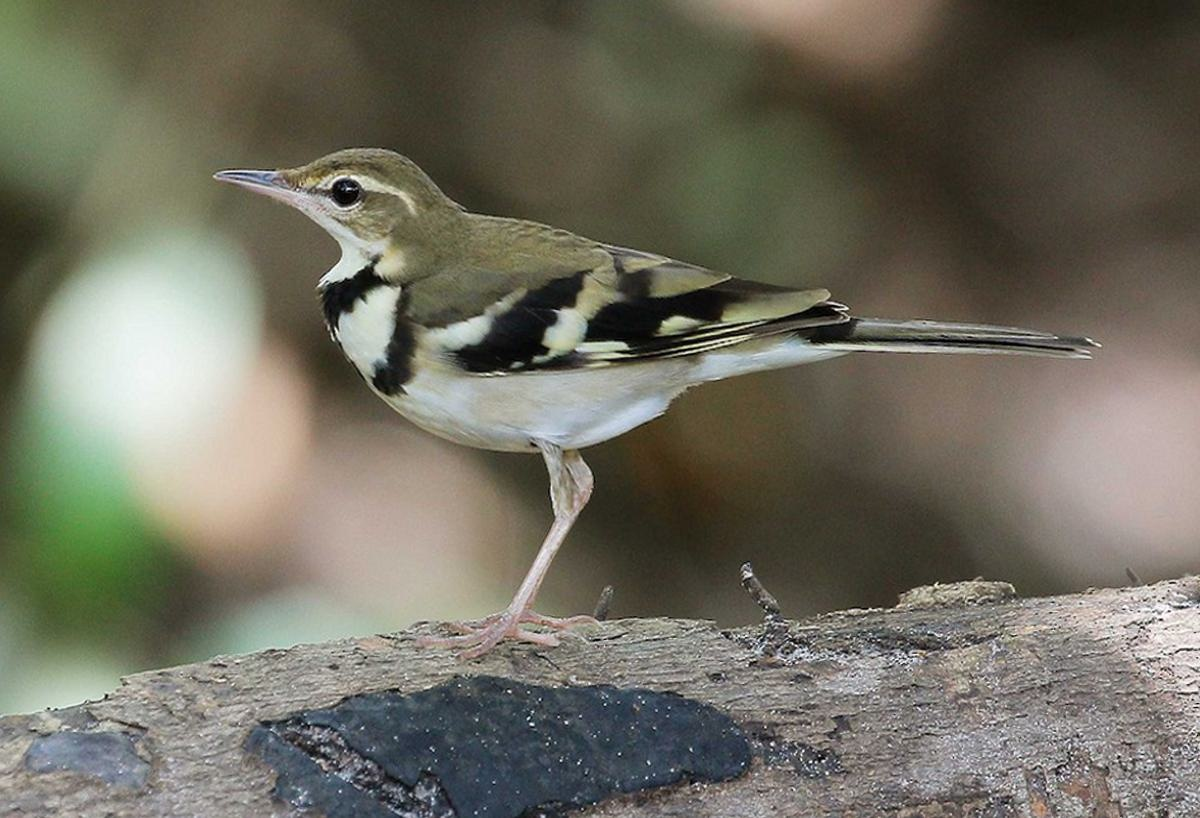wagtail: (209, 117, 1041, 635)
